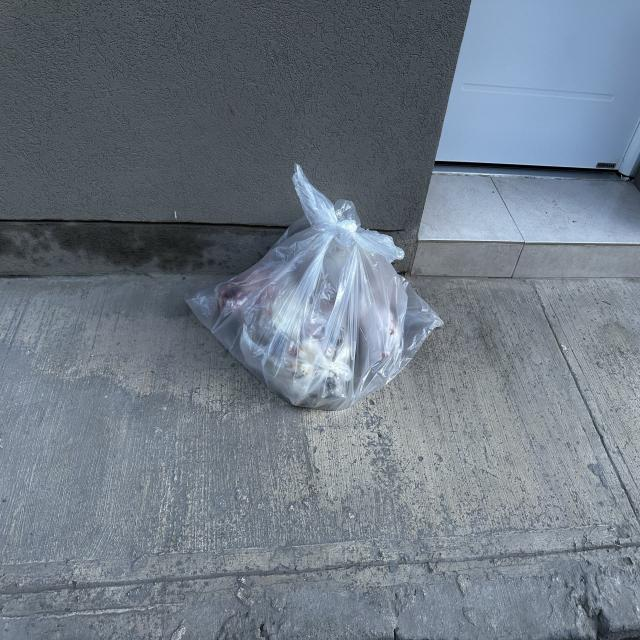Organic Waste -White Bags-: (185, 163, 443, 411)
